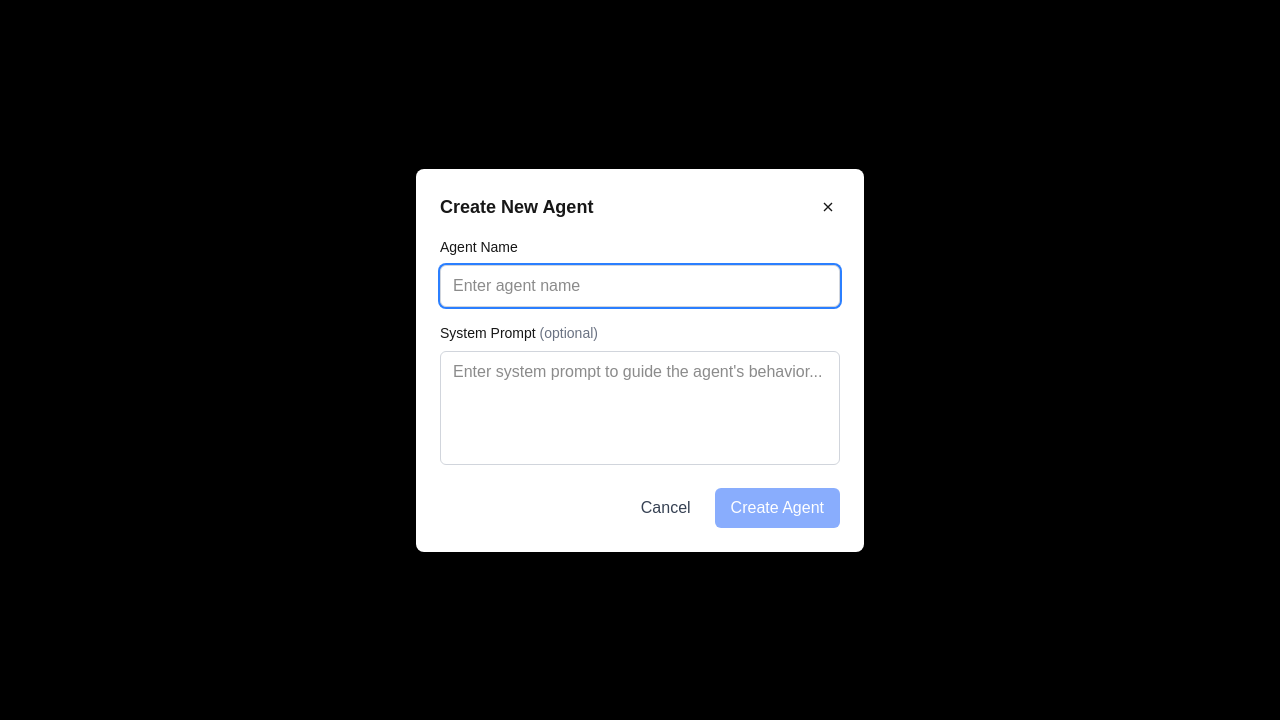
it: CreateAgentModal › Button States › create button is enabled when name has content
This screenshot has width=1280, height=720.
Expected: the button "Create Agent" is disabled, [715,488,840,528]
Type "A" into the field labelled "Agent Name" at x=640, y=286, box [440,264,840,306]
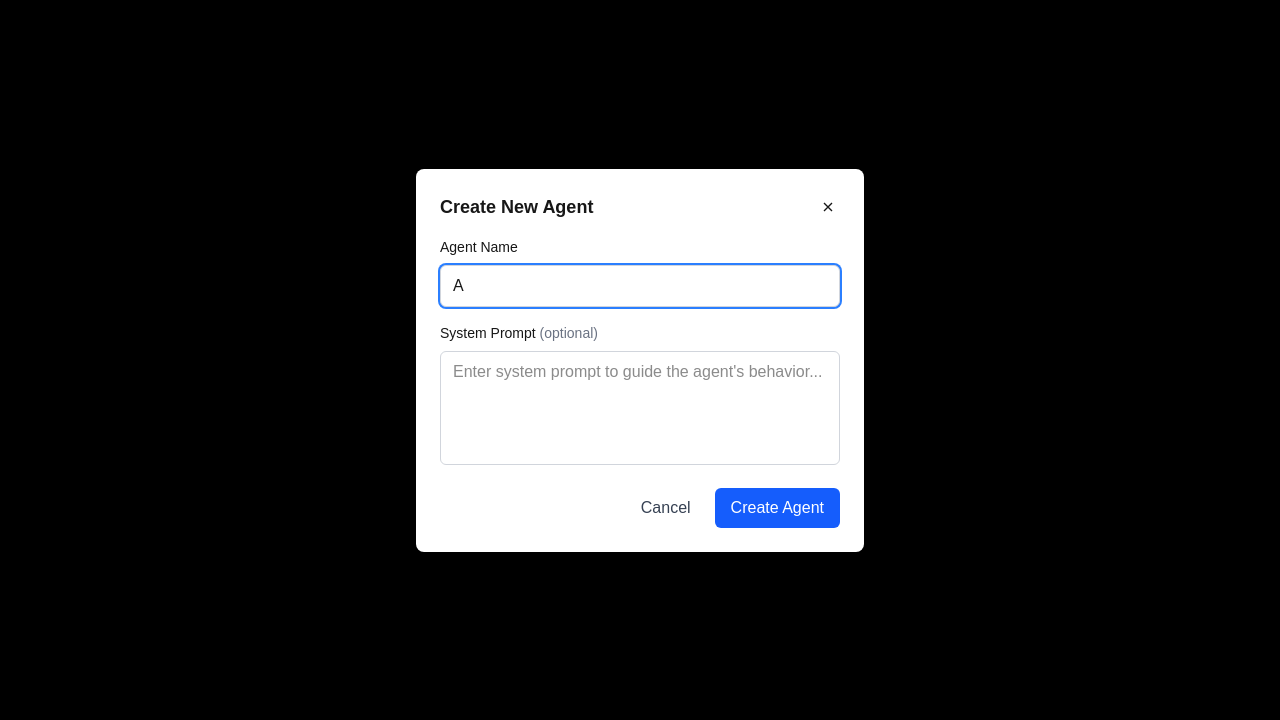
Expected: the button "Create Agent" is enabled, [715,488,840,528]
Clear the field labelled "Agent Name" at x=640, y=286, box [440,264,840,306]
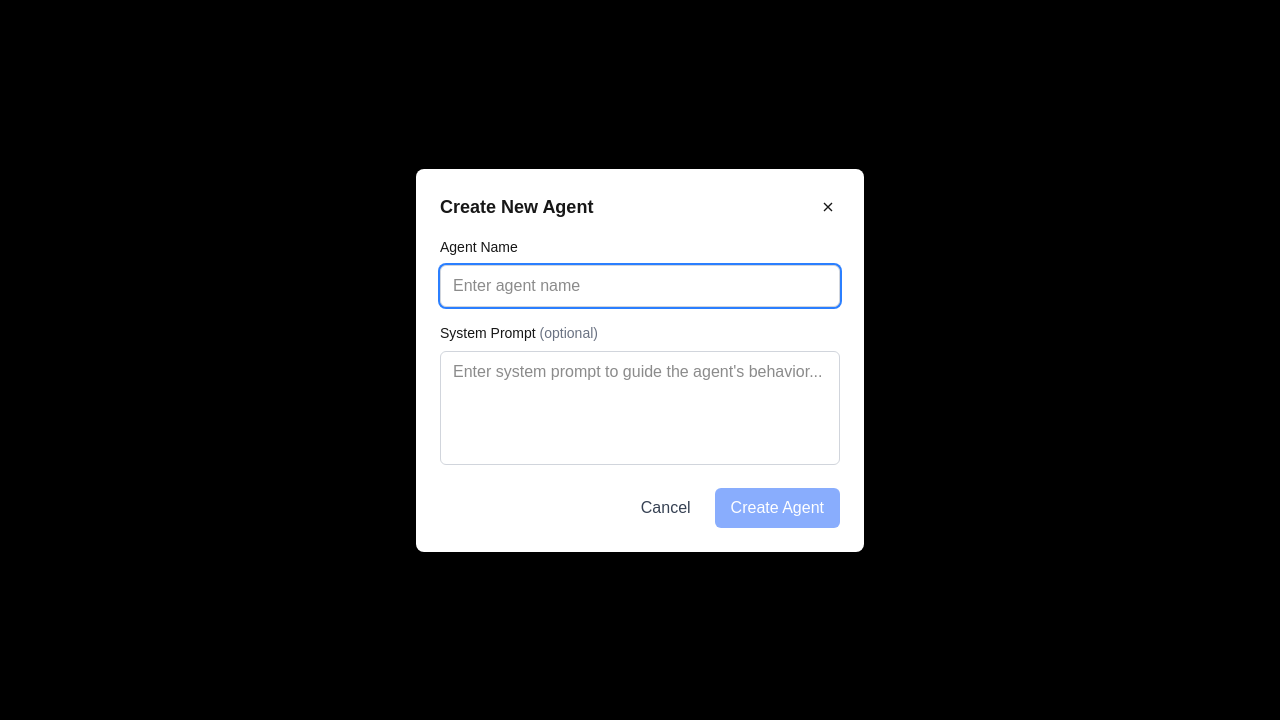
Expected: the button "Create Agent" is disabled, [715,488,840,528]
